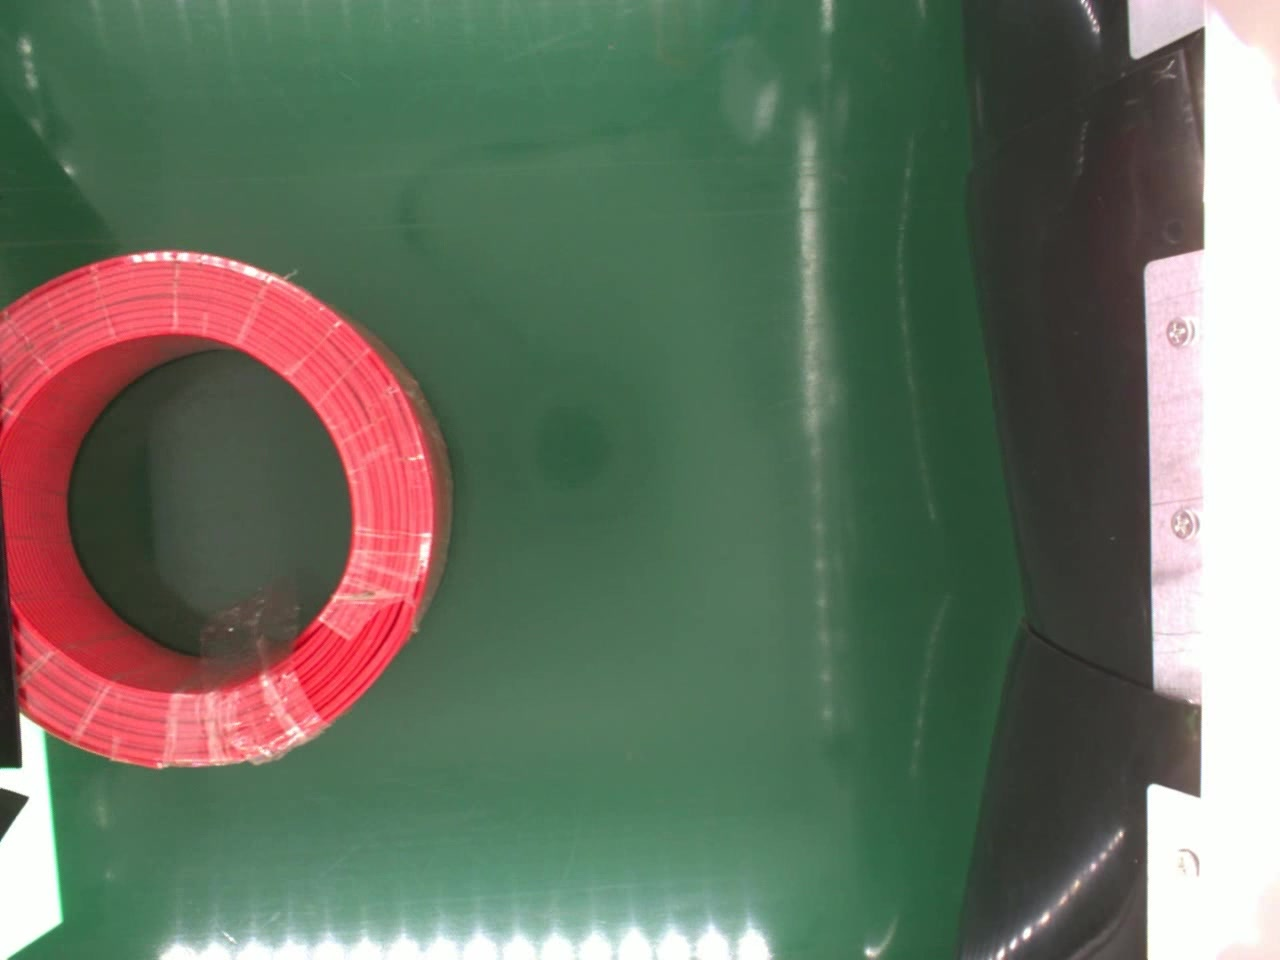red: (0, 246, 452, 771)
